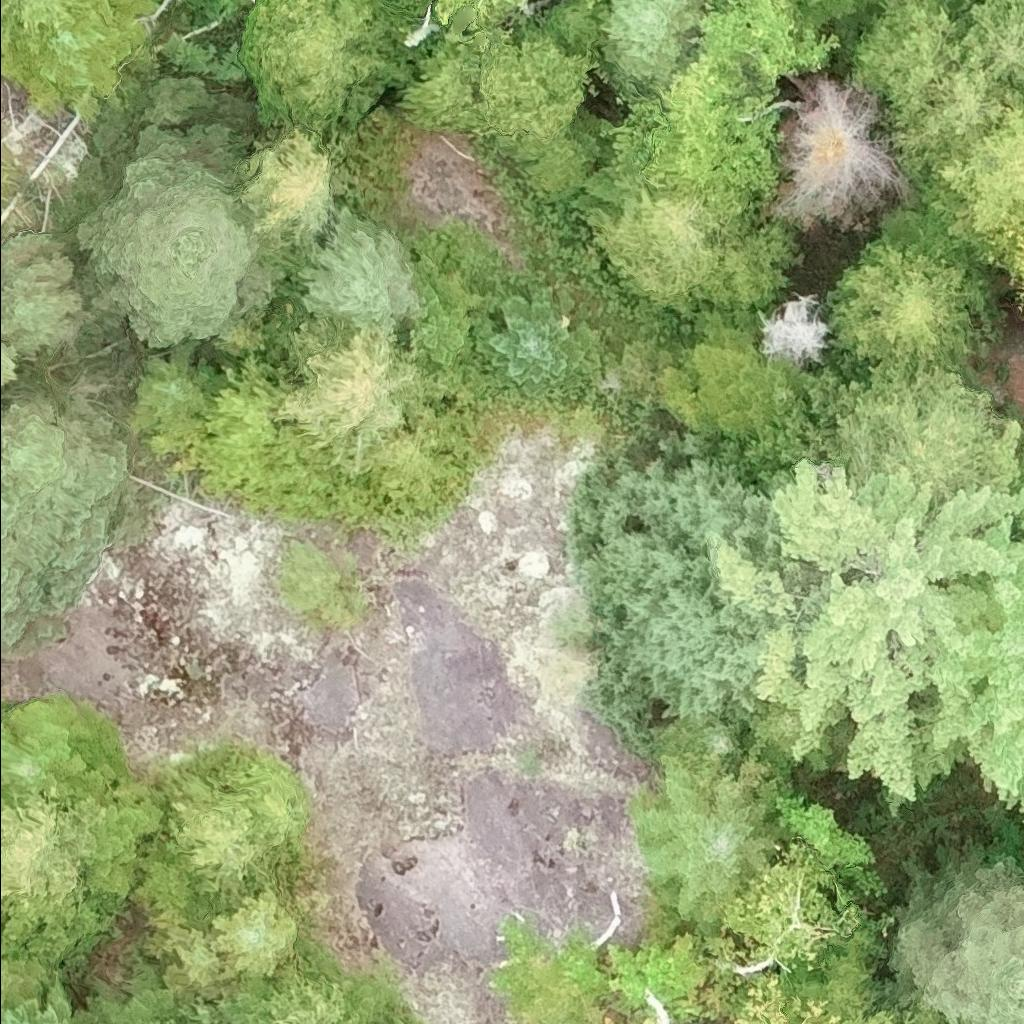crown: (720, 358, 1021, 515), (77, 158, 270, 346), (238, 0, 440, 168), (0, 394, 133, 647), (826, 207, 999, 378), (609, 54, 778, 225), (275, 314, 415, 474), (773, 76, 911, 229), (666, 305, 814, 445), (0, 0, 156, 122), (891, 54, 1011, 187), (184, 355, 298, 495), (927, 89, 1023, 252), (299, 208, 427, 329), (589, 187, 720, 304), (843, 0, 973, 114), (477, 281, 605, 395), (482, 27, 601, 144), (239, 425, 380, 520), (698, 0, 839, 89), (368, 408, 480, 518), (688, 201, 794, 309), (130, 342, 230, 453), (0, 231, 82, 361), (234, 131, 330, 242), (396, 32, 493, 134), (603, 0, 705, 83), (409, 253, 481, 367), (962, 0, 1023, 90), (760, 296, 831, 365), (569, 160, 642, 225), (979, 199, 1023, 286), (0, 0, 73, 52), (620, 340, 677, 394), (434, 0, 519, 32), (801, 0, 881, 25), (941, 0, 984, 37), (0, 348, 17, 385), (0, 338, 3, 342), (586, 0, 593, 1)
